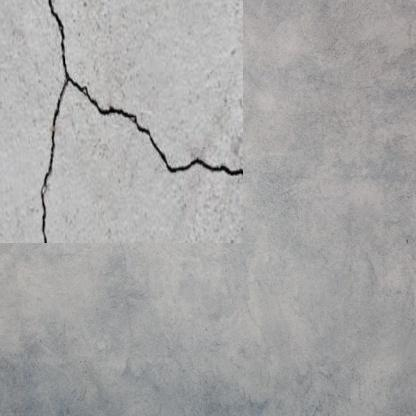Cracks: (35, 0, 224, 224)
